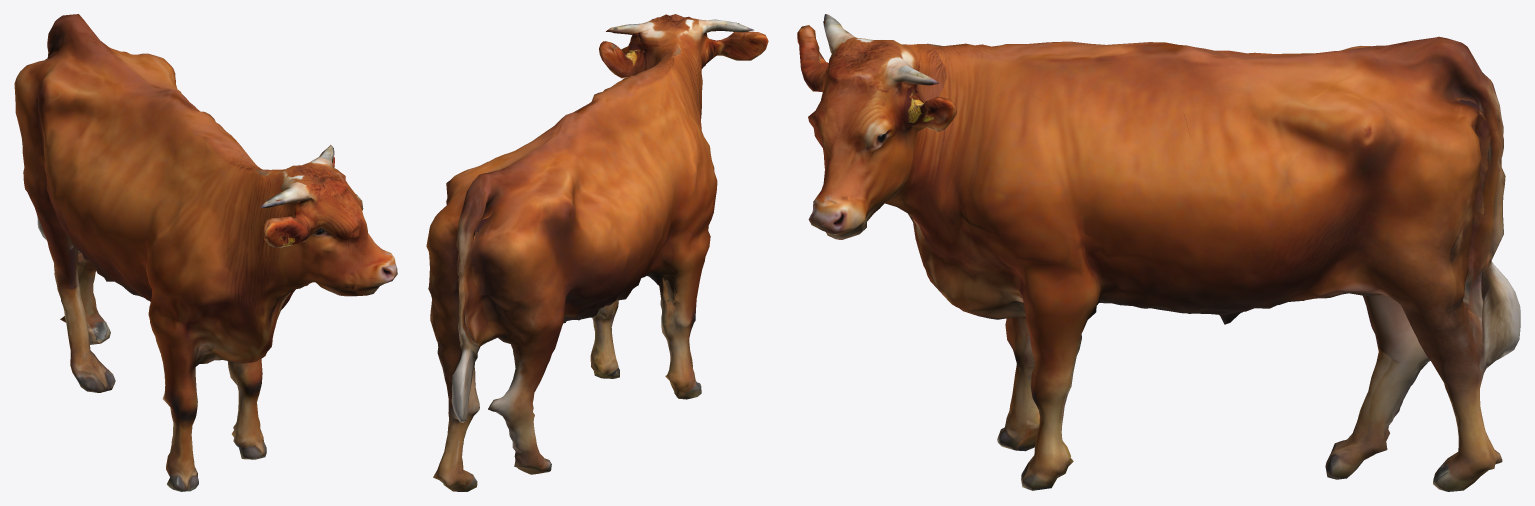
Rendered from cow.glb.
The picture shows the model from 3 angles, left to right: view 1: azimuth 30°, elevation 25°; view 2: azimuth 150°, elevation 25°; view 3: azimuth 270°, elevation 25°; orthographic projection. The views are drawn at different scales.
Visible parts, largest first — view 1: Mesh_0; view 2: Mesh_0; view 3: Mesh_0.
Boxes of the visible parts, x1,y1,x2,y2 form: Mesh_0: (14,14,397,491); Mesh_0: (426,14,768,491); Mesh_0: (797,14,1520,491).
Bounding box in the file's own units: 0.7308 × 1.36 × 2.
1 material, 1 textured.
